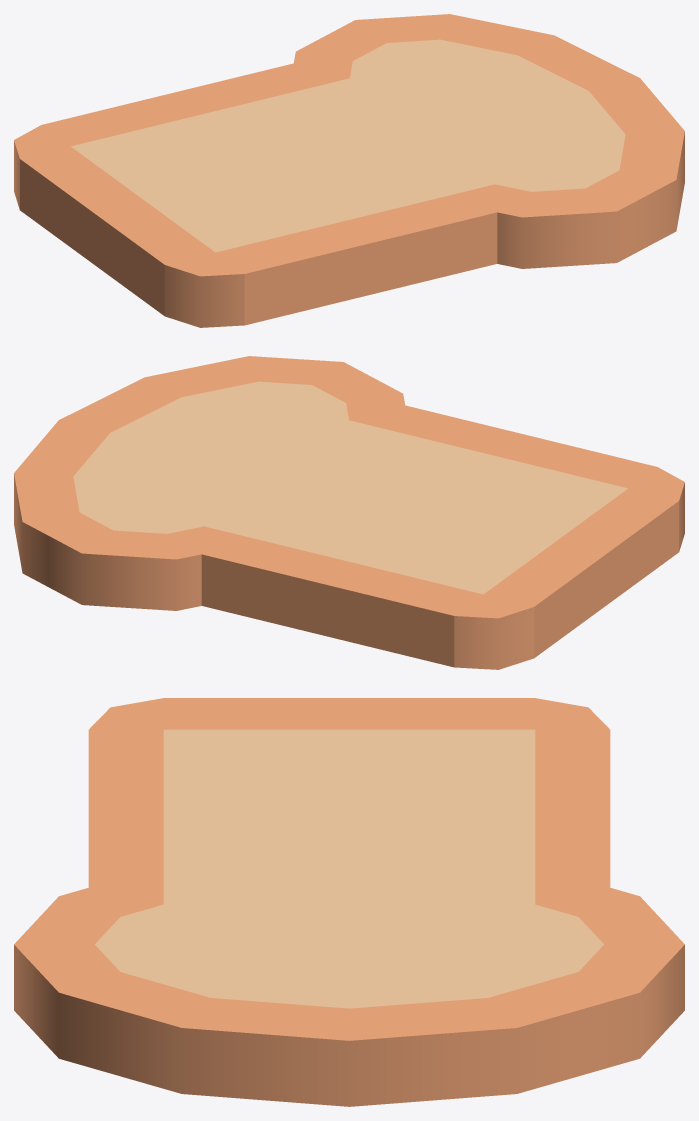
File: bread.obj
The picture shows the model from 3 angles, top to bottom: view 1: azimuth 30°, elevation 25°; view 2: azimuth 150°, elevation 25°; view 3: azimuth 270°, elevation 25°; orthographic projection. The views are drawn at different scales.
Visible parts, largest first — view 1: bread; view 2: bread; view 3: bread.
Boxes of the visible parts, box(x1,y1,x2,y2) form: bread: box(14, 14, 684, 327); bread: box(14, 356, 684, 669); bread: box(14, 698, 684, 1106).
Size of the model in its own units: 0.4423 by 0.0397 by 0.3659.
